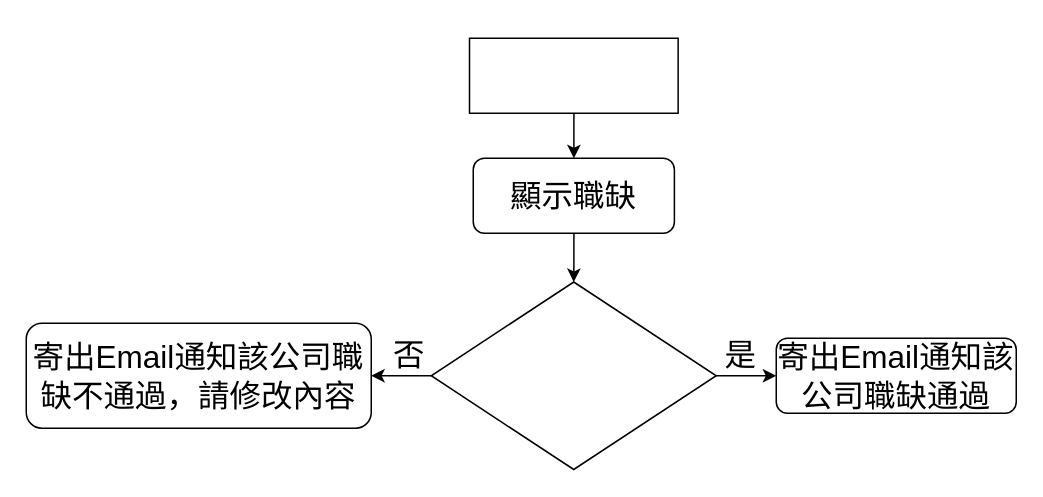
Image size: 1043x497. Some labels were removed from this diagram. The centre of each missing label's shape, as x and y in pixels:
"是否同意職缺刊登" belongs at pixel 573 375.
"職缺審核頁面" belongs at pixel 573 75.
